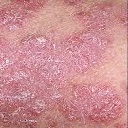Psoriasis: (6, 28, 104, 126)
